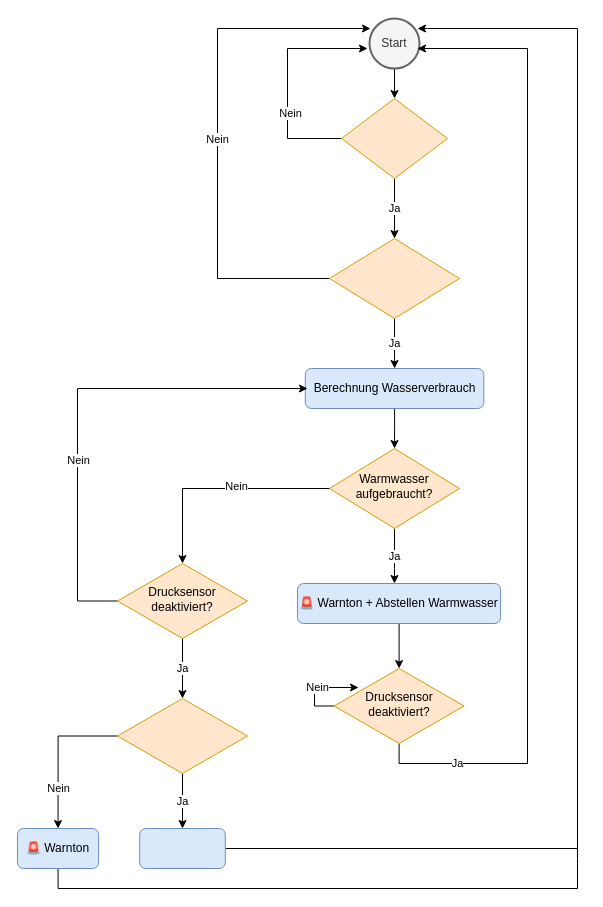
This 603x907 diagram has some shape labels left out. The box of each missing label's shape, as (x1, y1, x2, y2) in pixels:
Drucksensor aktiviert?: (340, 98, 448, 178)
Wasserhahnsensor aktiviert?: (328, 238, 460, 318)
Wasserhahnsensor deaktiviert?: (116, 698, 248, 774)
🎺 Fanfare: (139, 828, 225, 868)
